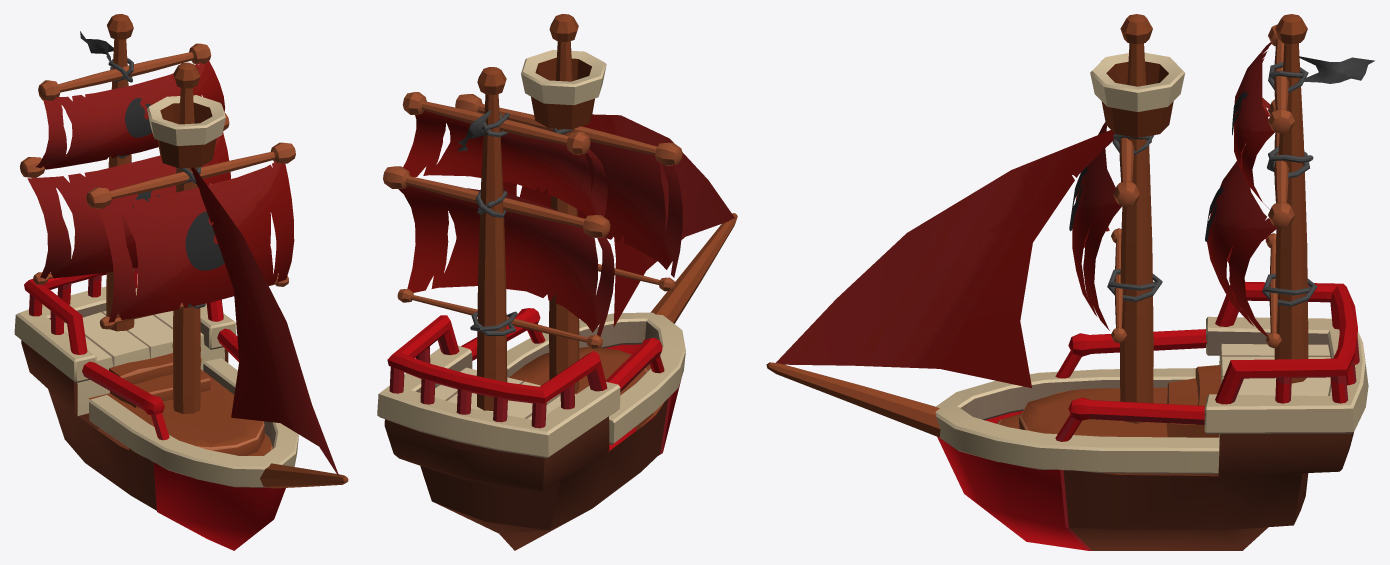
Rendered from Ship_Red_Medium.fbx.
3 views of the same model, side by side, from view 1: azimuth 30°, elevation 25°; view 2: azimuth 150°, elevation 25°; view 3: azimuth 270°, elevation 25° (orthographic). The views are drawn at different scales.
Parts seen in each view (by area): view 1: Red_Color_08, Red_Color_Cloth_02, Red_Color_Cloth_01, Red_Color_07, Red_Color_01, Red_Color_05, Red_Color_03, Red_Color_02, Red_Color_06; view 2: Red_Color_08, Red_Color_Cloth_01, Red_Color_Cloth_02, Red_Color_05, Red_Color_07, Red_Color_03, Red_Color_02, Red_Color_01, Red_Color_06; view 3: Red_Color_08, Red_Color_Cloth_01, Red_Color_07, Red_Color_05, Red_Color_Cloth_02, Red_Color_03, Red_Color_01, Red_Color_02, Red_Color_06.
Part boxes in pixels (left/top/right/bottom): Red_Color_08: left=14, top=280, right=348, bottom=550; Red_Color_Cloth_02: left=35, top=61, right=294, bottom=322; Red_Color_Cloth_01: left=27, top=31, right=339, bottom=477; Red_Color_07: left=86, top=62, right=295, bottom=413; Red_Color_01: left=88, top=353, right=272, bottom=455; Red_Color_05: left=20, top=14, right=229, bottom=331; Red_Color_03: left=24, top=267, right=223, bottom=354; Red_Color_02: left=82, top=328, right=239, bottom=440; Red_Color_06: left=108, top=58, right=205, bottom=308; Red_Color_08: left=377, top=213, right=737, bottom=550; Red_Color_Cloth_01: left=398, top=110, right=734, bottom=336; Red_Color_Cloth_02: left=403, top=110, right=682, bottom=277; Red_Color_05: left=383, top=67, right=610, bottom=410; Red_Color_07: left=455, top=14, right=682, bottom=392; Red_Color_03: left=387, top=315, right=607, bottom=428; Red_Color_02: left=461, top=308, right=664, bottom=391; Red_Color_01: left=509, top=346, right=663, bottom=430; Red_Color_06: left=470, top=112, right=573, bottom=335; Red_Color_08: left=766, top=316, right=1368, bottom=550; Red_Color_Cloth_01: left=776, top=56, right=1374, bottom=388; Red_Color_07: left=1090, top=14, right=1184, bottom=423; Red_Color_05: left=1265, top=14, right=1308, bottom=383; Red_Color_Cloth_02: left=1069, top=42, right=1275, bottom=330; Red_Color_03: left=1215, top=281, right=1359, bottom=404; Red_Color_01: left=997, top=365, right=1221, bottom=474; Red_Color_02: left=1055, top=329, right=1206, bottom=441; Red_Color_06: left=1107, top=62, right=1317, bottom=306.
Size of the model in its own units: 16.55 by 35 by 35.99.
